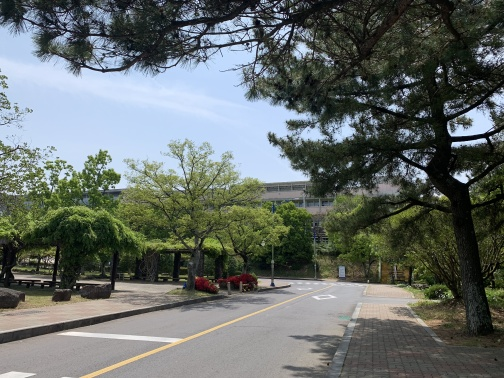College Of Education: (137, 172, 416, 241)
